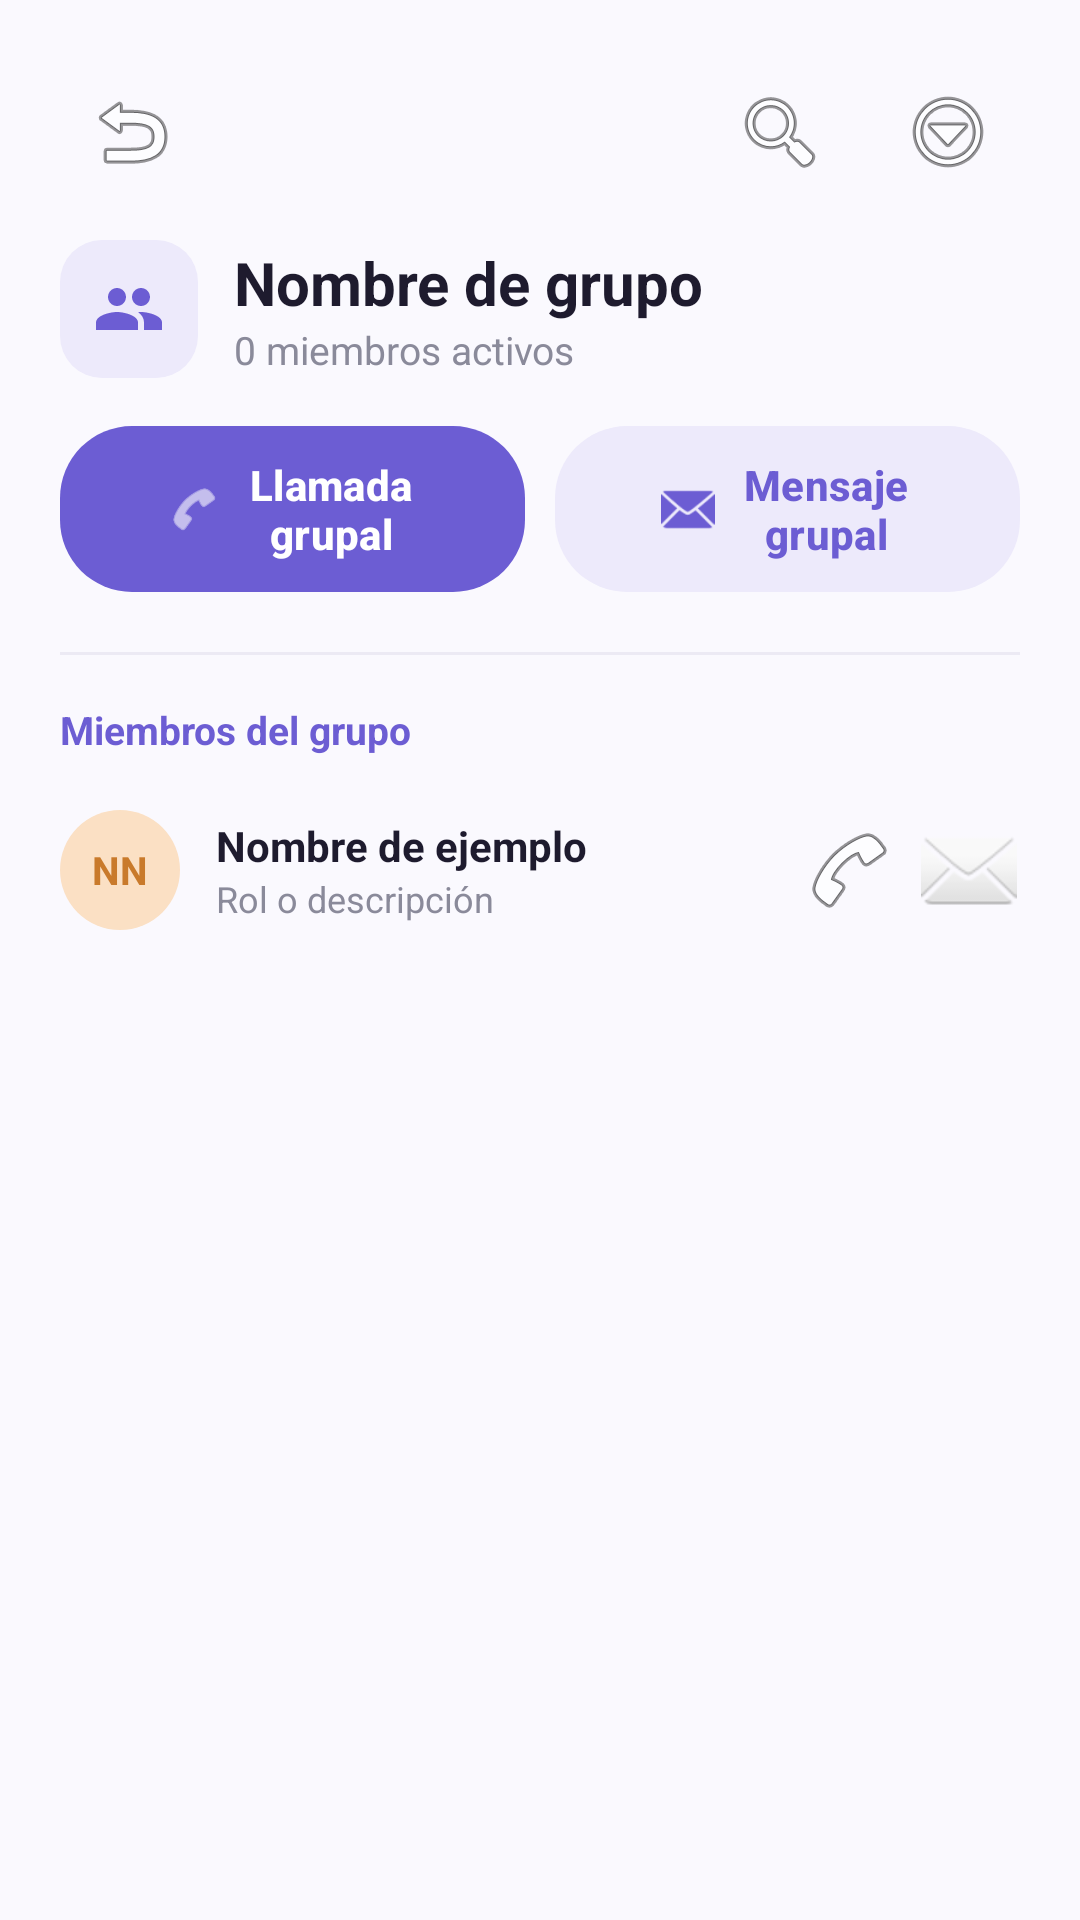

Where icons sit on this 1080w x 1920h app screen, as (left=x1, top=y1, right=x2, bottom=y2):
Buscar en el grupo: (left=744, top=97, right=816, bottom=168)
Llamar: (left=812, top=833, right=887, bottom=908)
Mensaje: (left=921, top=839, right=1017, bottom=905)
Más opciones: (left=912, top=96, right=984, bottom=168)
Regresar: (left=99, top=101, right=168, bottom=164)
Ícono de grupo: (left=96, top=288, right=162, bottom=330)
